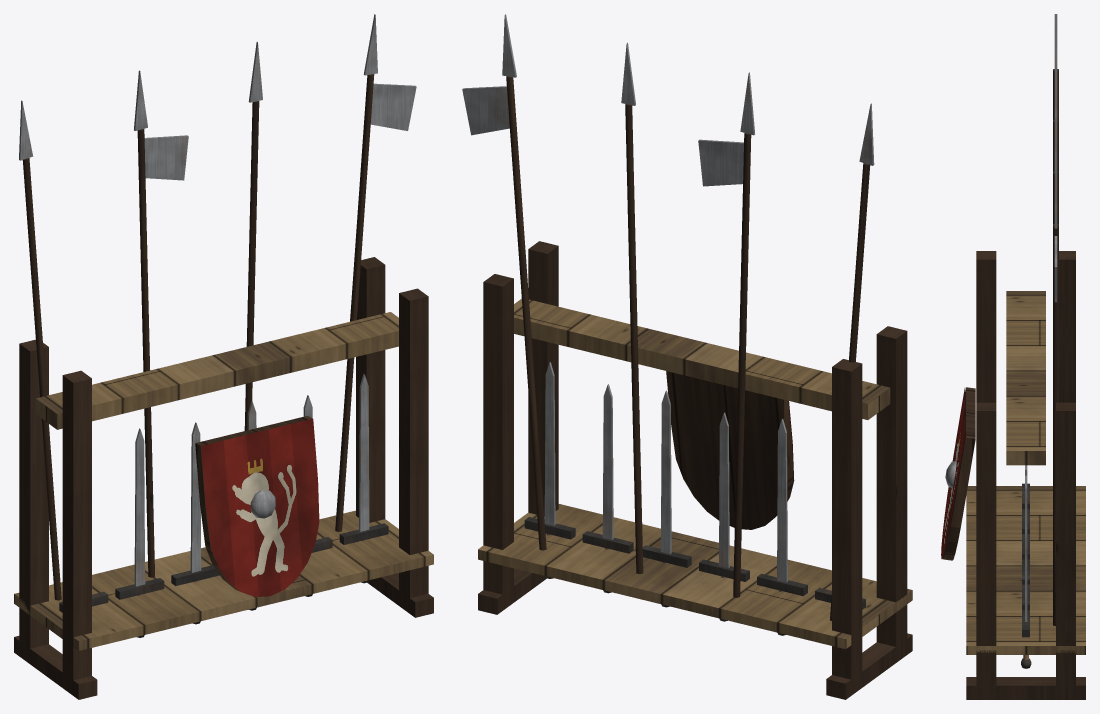
The model's file is weapon_rack.gltf.
3 renders of one model, left to right at view 1: azimuth 30°, elevation 25°; view 2: azimuth 150°, elevation 25°; view 3: azimuth 270°, elevation 25°, orthographic. The views are drawn at different scales.
Visible parts, largest first — view 1: weapon_rack_mesh; view 2: weapon_rack_mesh; view 3: weapon_rack_mesh.
Boxes of the visible parts, x1,y1,x2,y2 form: weapon_rack_mesh: (14,14,433,699); weapon_rack_mesh: (462,14,912,699); weapon_rack_mesh: (941,14,1085,699).
Size of what is drawn, in the model's own units: 2.12 by 2.9 by 0.7269.
7 materials, 6 textured.
